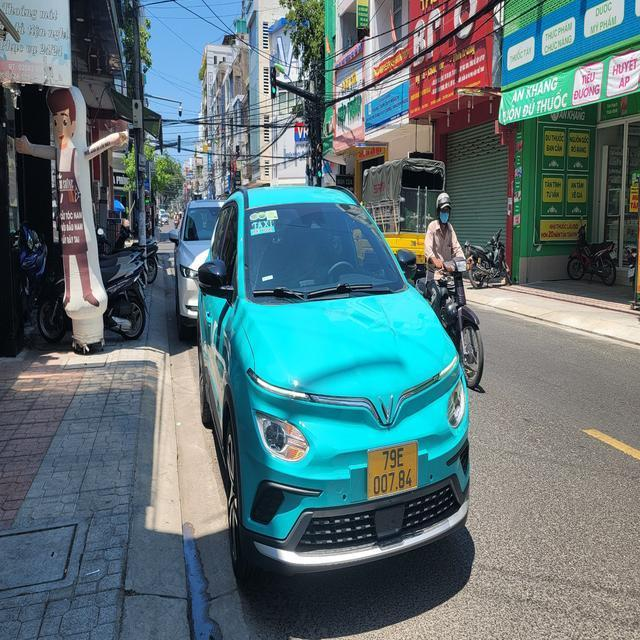car: (184, 185, 485, 585)
plate: (362, 442, 421, 503)
